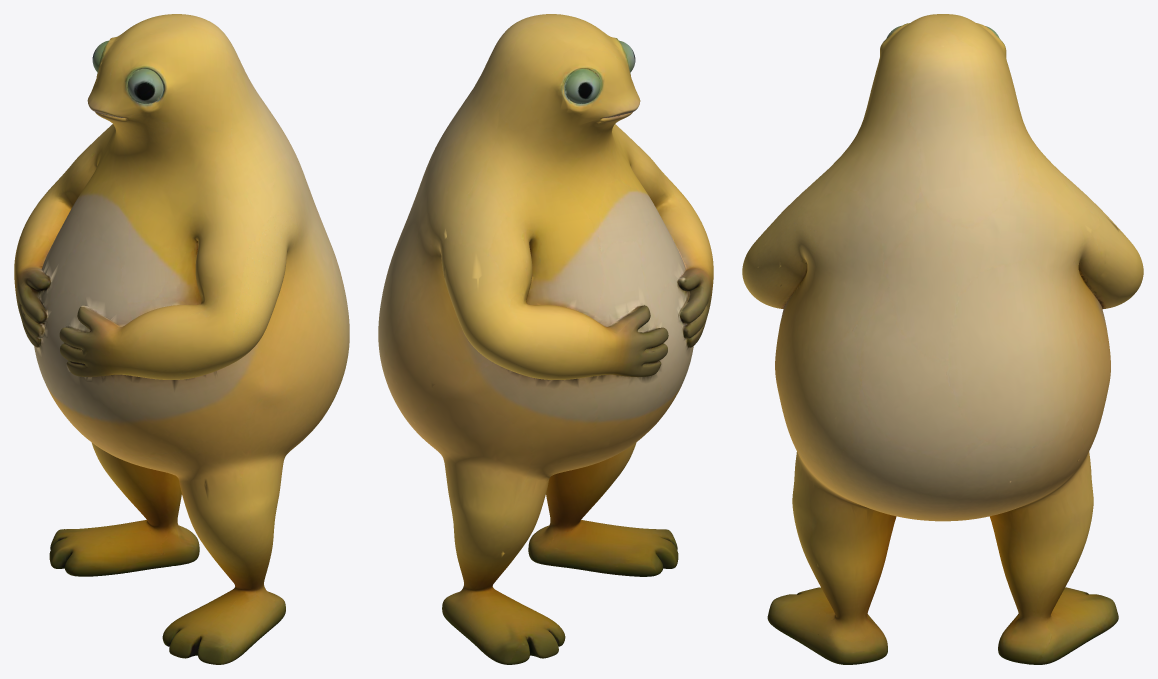
File: nailong.glb
3 views of the same model, side by side, from view 1: azimuth 30°, elevation 25°; view 2: azimuth 150°, elevation 25°; view 3: azimuth 270°, elevation 25° (orthographic). The views are drawn at different scales.
Visible parts, largest first — view 1: node_0; view 2: node_0; view 3: node_0.
Boxes of the visible parts, <box> form: node_0: <box>14,14,349,664</box>; node_0: <box>378,14,713,664</box>; node_0: <box>742,14,1143,664</box>.
Size of the model in its own units: 0.5324 by 1.05 by 0.6291.
Materials: 1 (1 with a texture image).
